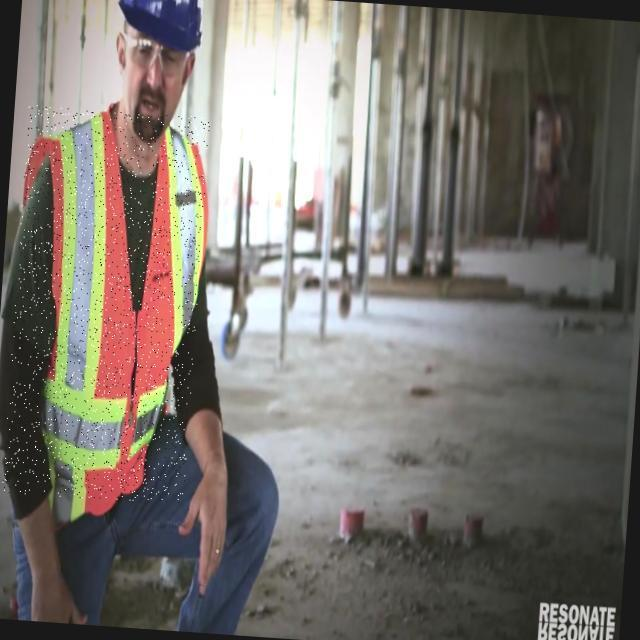helmet: (107, 0, 206, 54)
vest: (1, 104, 210, 505)
